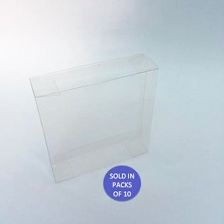plastic_box: (18, 46, 166, 189)
